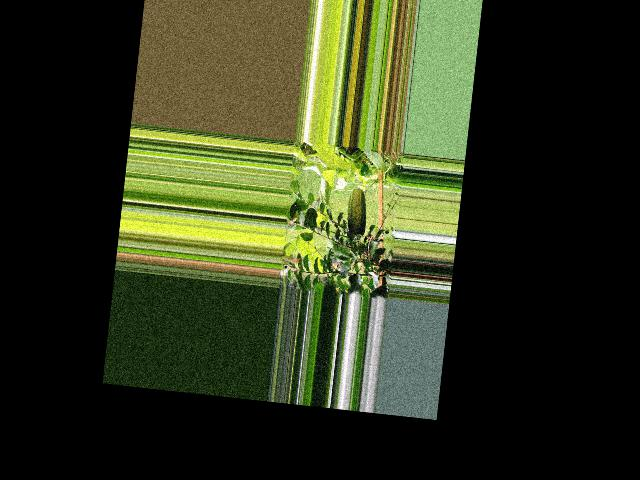cucumber: (344, 187, 370, 242)
